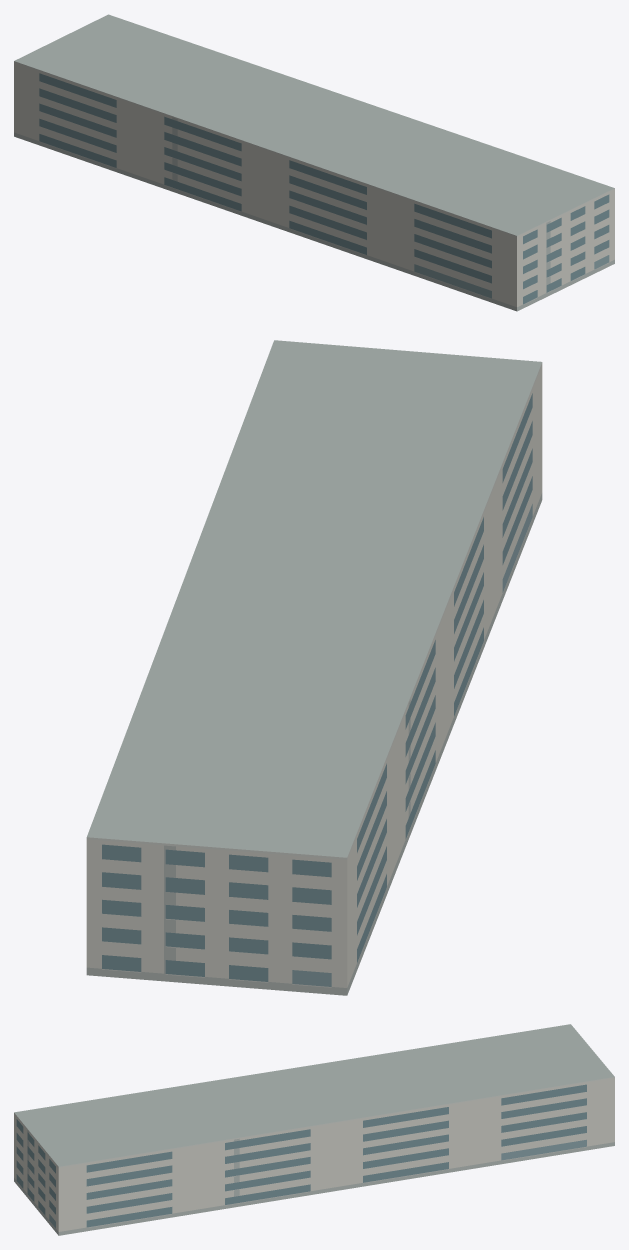
Rendered from residential-f4620fc5-03b8-4dbd-a448-13463c55619f.glb.
The picture shows the model from 3 angles, top to bottom: view 1: azimuth 30°, elevation 25°; view 2: azimuth 150°, elevation 25°; view 3: azimuth 270°, elevation 25°; orthographic projection. The views are drawn at different scales.
Visible parts, largest first — view 1: residential-f4620fc5-03b8-4dbd-a448-13463c55619f.tmp; view 2: residential-f4620fc5-03b8-4dbd-a448-13463c55619f.tmp; view 3: residential-f4620fc5-03b8-4dbd-a448-13463c55619f.tmp.
Part boxes in pixels (x1,y1,x2,y2): residential-f4620fc5-03b8-4dbd-a448-13463c55619f.tmp: [14, 14, 614, 311]; residential-f4620fc5-03b8-4dbd-a448-13463c55619f.tmp: [86, 340, 542, 995]; residential-f4620fc5-03b8-4dbd-a448-13463c55619f.tmp: [14, 1024, 614, 1235].
Size of the model in its own units: 67.67 by 15.25 by 120.
